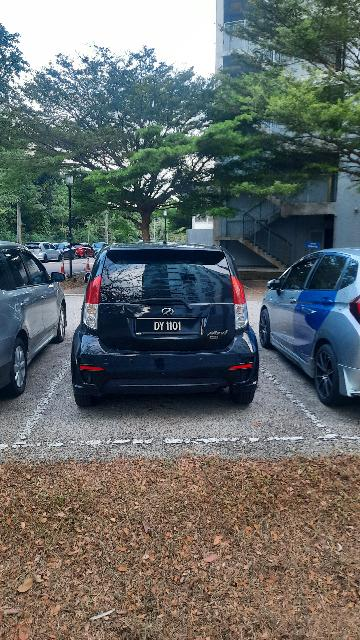License_Plate: (132, 317, 205, 338)
car: (68, 246, 262, 412)
